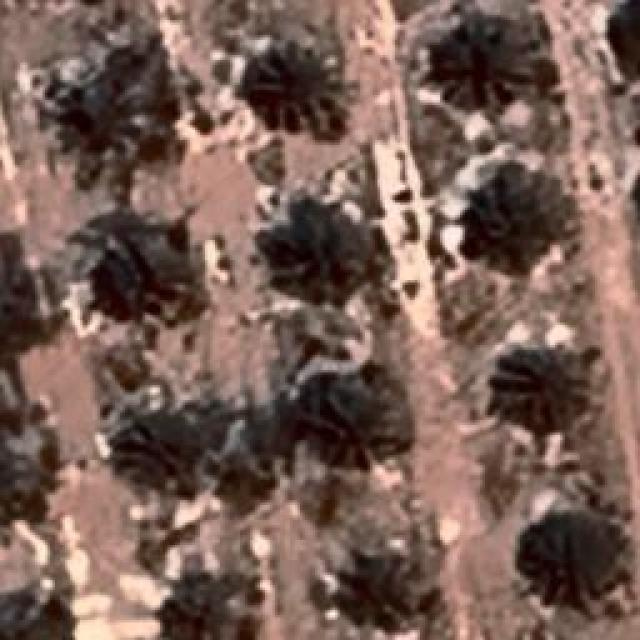PalmTree: (31, 53, 84, 614), (242, 37, 348, 135), (432, 18, 540, 110), (502, 340, 602, 438), (262, 201, 366, 291), (312, 390, 412, 472), (108, 408, 204, 492), (150, 568, 262, 638), (539, 509, 619, 599), (95, 246, 175, 336), (457, 167, 545, 245), (345, 547, 425, 625), (0, 422, 33, 522), (0, 260, 25, 350), (612, 0, 640, 74), (0, 432, 21, 526), (619, 0, 640, 75), (1, 262, 18, 352)
